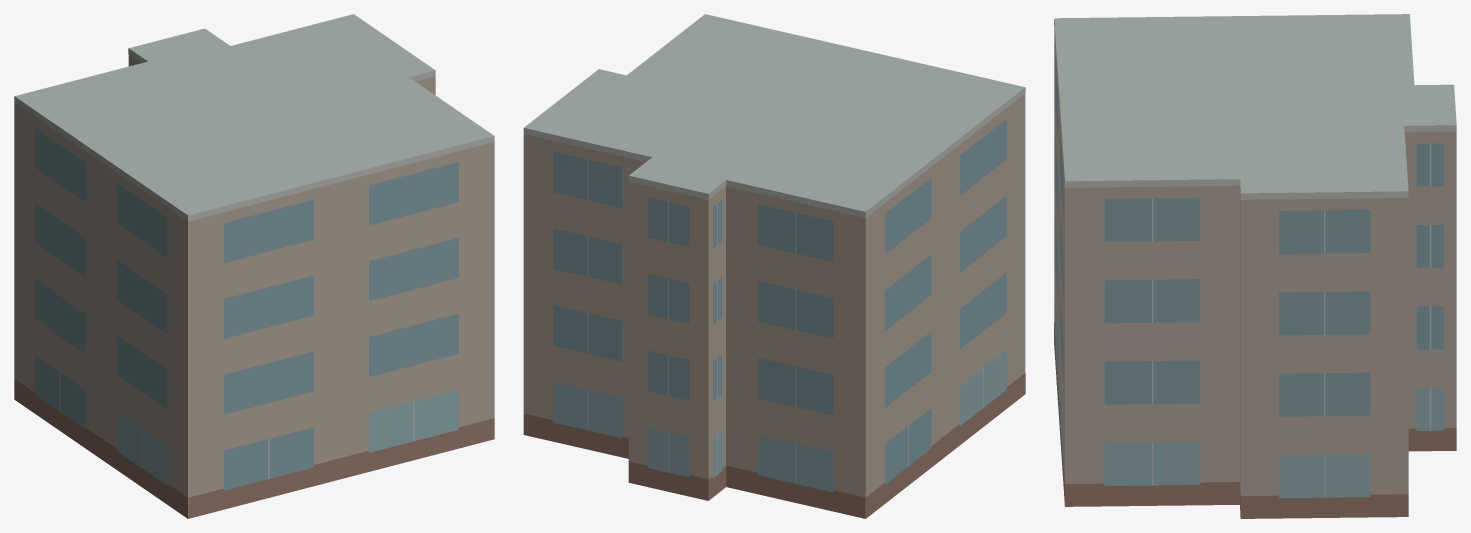
Rendered from residential-a9ee0eab-6f5f-48b5-91b0-7d40b4f4cc8e.glb.
3 views of the same model, side by side, from view 1: azimuth 30°, elevation 25°; view 2: azimuth 150°, elevation 25°; view 3: azimuth 270°, elevation 25° (orthographic). The views are drawn at different scales.
Visible parts, largest first — view 1: residential-a9ee0eab-6f5f-48b5-91b0-7d40b4f4cc8e.tmp; view 2: residential-a9ee0eab-6f5f-48b5-91b0-7d40b4f4cc8e.tmp; view 3: residential-a9ee0eab-6f5f-48b5-91b0-7d40b4f4cc8e.tmp.
Boxes of the visible parts, x1,y1,x2,y2 form: residential-a9ee0eab-6f5f-48b5-91b0-7d40b4f4cc8e.tmp: (14, 14, 494, 518); residential-a9ee0eab-6f5f-48b5-91b0-7d40b4f4cc8e.tmp: (523, 14, 1025, 518); residential-a9ee0eab-6f5f-48b5-91b0-7d40b4f4cc8e.tmp: (1054, 14, 1456, 518).
Size of the model in its own units: 14.42 by 12.2 by 13.68.
